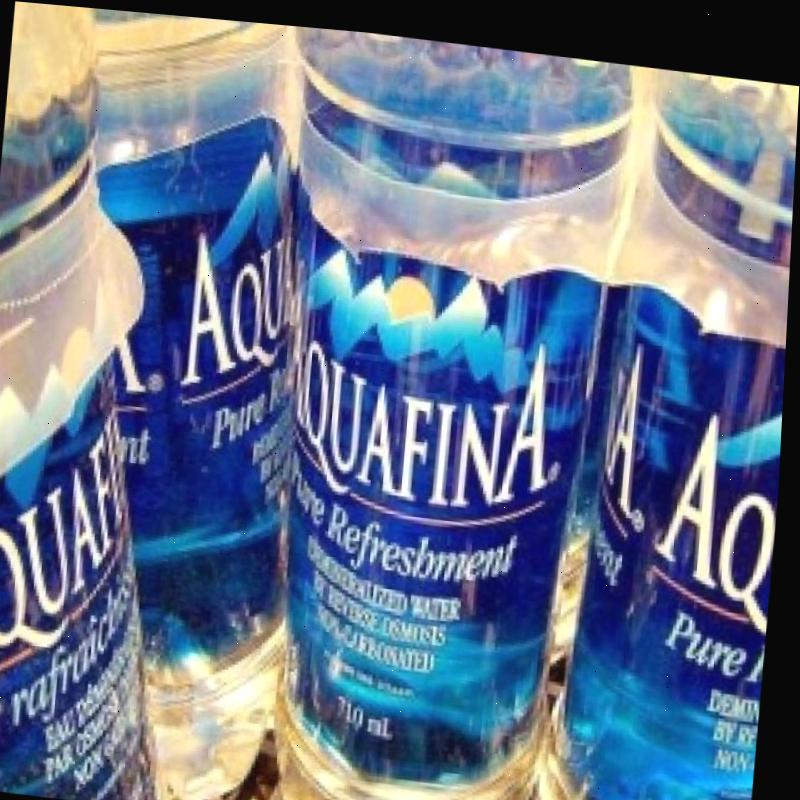botella: (235, 19, 646, 800), (27, 4, 328, 800), (537, 46, 800, 800), (0, 0, 233, 800)
